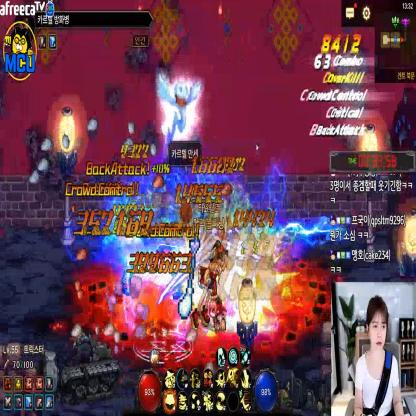streamer: (354, 294, 403, 416)
